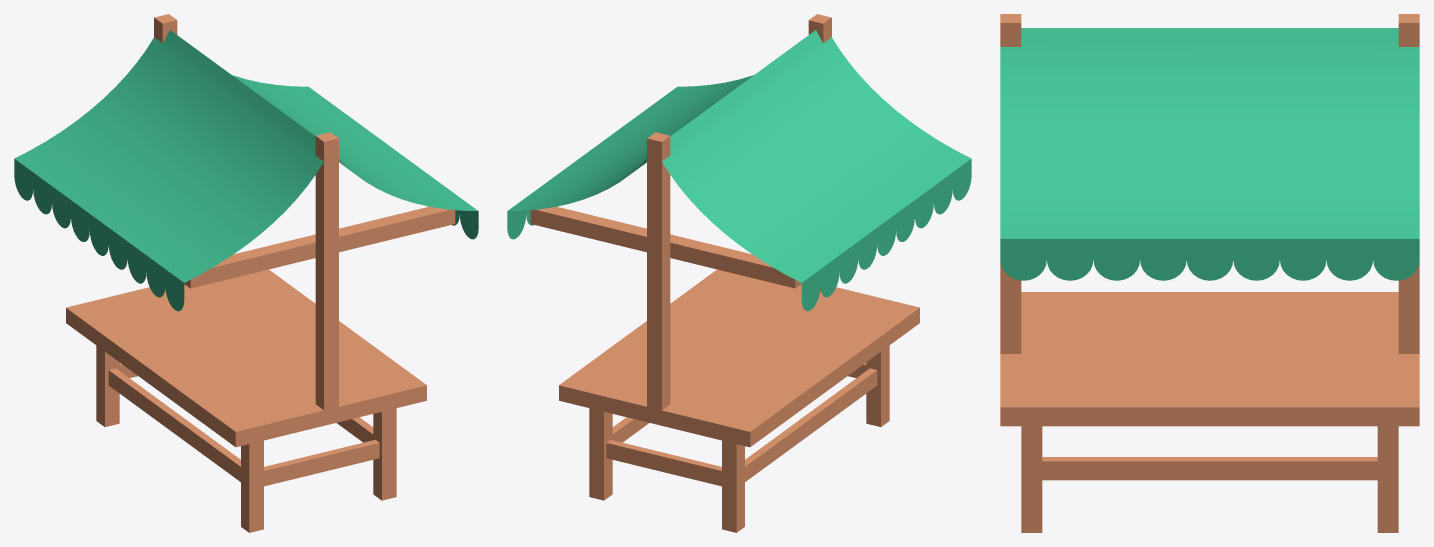
The model's file is stallGreen.glb.
3 renders of one model, left to right at view 1: azimuth 30°, elevation 25°; view 2: azimuth 150°, elevation 25°; view 3: azimuth 270°, elevation 25°, orthographic. The views are drawn at different scales.
Visible parts, largest first — view 1: stallGreen; view 2: stallGreen; view 3: stallGreen.
Part boxes in pixels (bbox=[...]): stallGreen: bbox=[14, 14, 478, 532]; stallGreen: bbox=[507, 14, 971, 532]; stallGreen: bbox=[1000, 14, 1419, 532].
Bounding box in the file's own units: 3 × 3.71 × 3.
